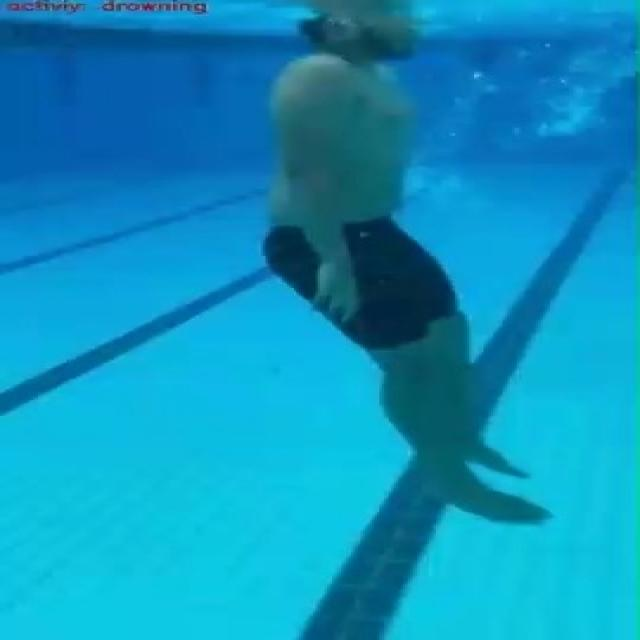Drowning: (242, 1, 607, 548)
